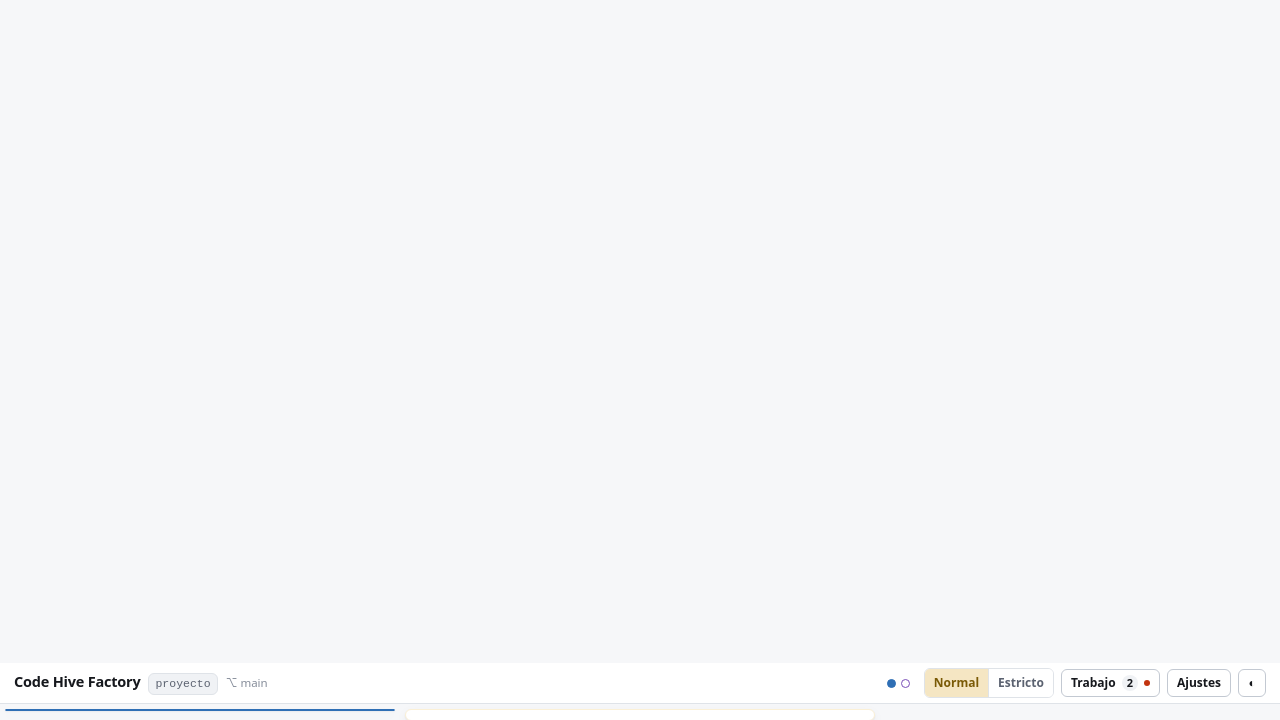
Test: detalle de una tarea › el recorrido de un hallazgo se sigue sin salir de la vista
(page scrolled)
Click the button with aria-label "Ver el trabajo del proyecto".
click(1110, 683)  # box x1=1061 y1=669 x2=1160 y2=697
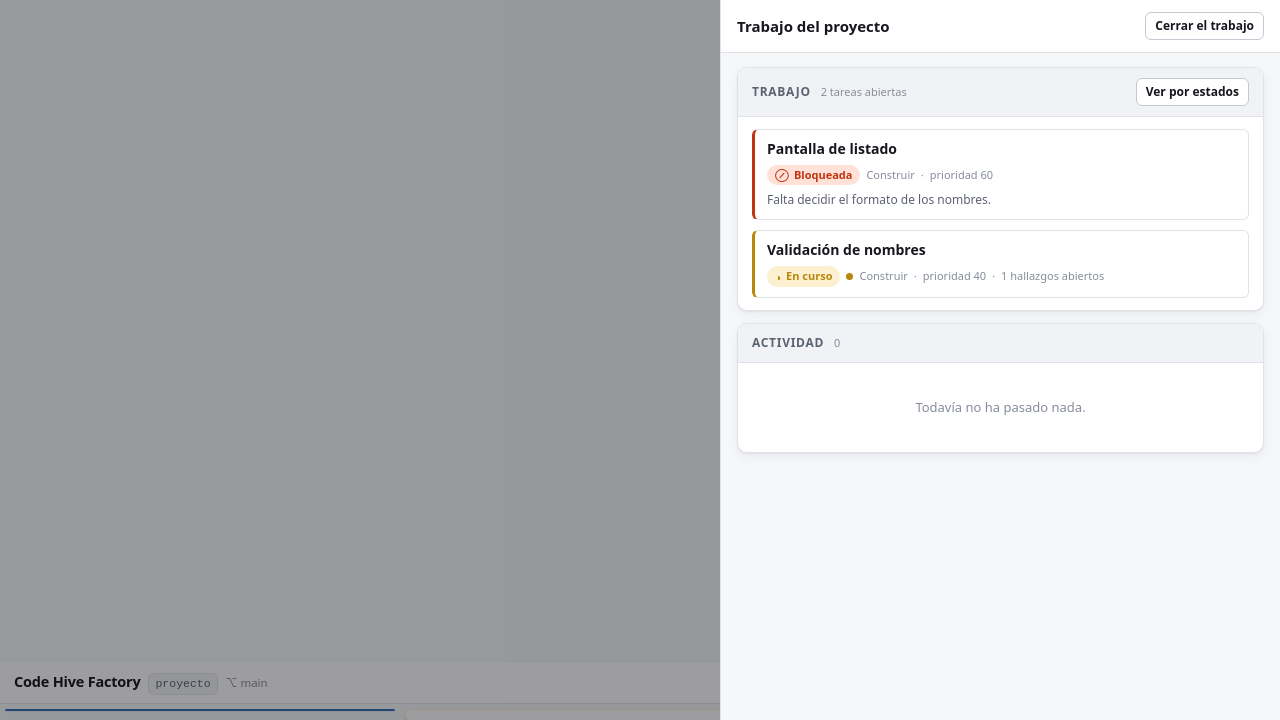
Check: the element with class "cajon" is shown, box x1=720 y1=0 x2=1279 y2=719
Click the button with class "tarea" that starts with "Validación de nombres".
click(846, 250)  # box x1=752 y1=230 x2=1249 y2=298
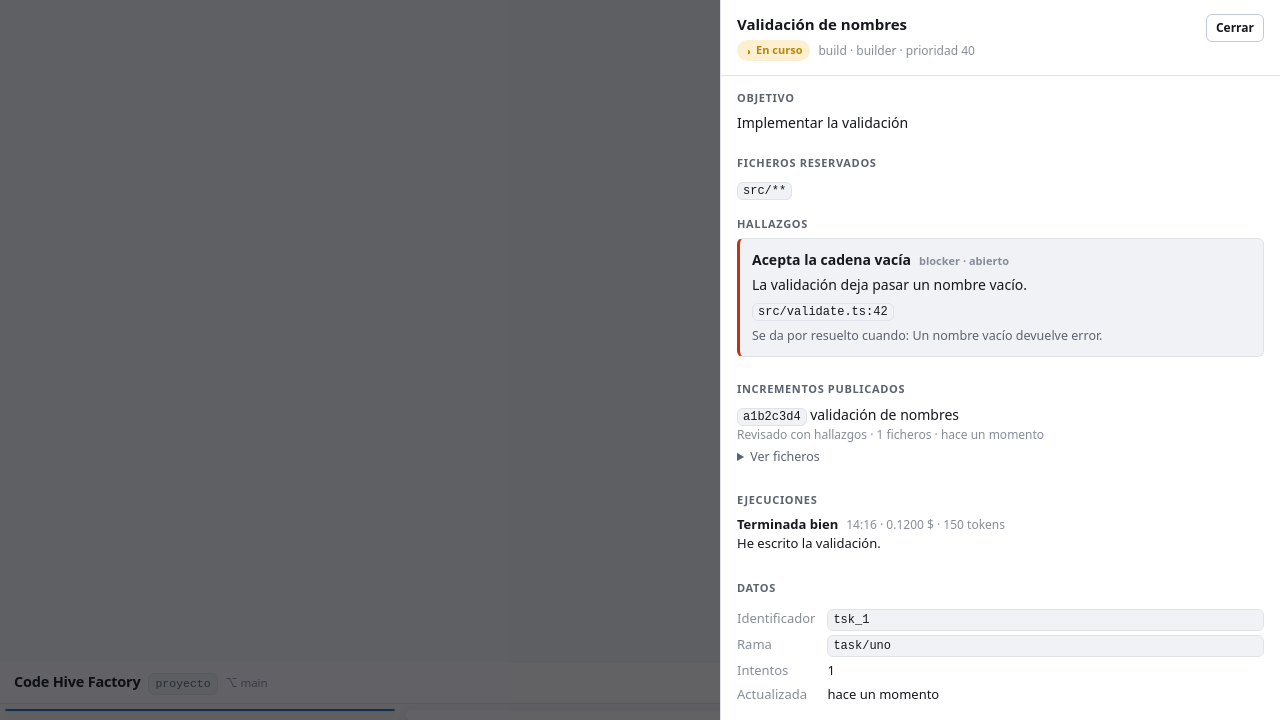
Check: the dialog shows "Acepta la cadena vacía", box x1=752 y1=250 x2=911 y2=269
Check: the dialog shows "Se da por resuelto cuando: Un nombre vacío devuelve error.", box x1=720 y1=0 x2=1279 y2=719
Check: the dialog shows "src/validate.ts:42", box x1=720 y1=0 x2=1279 y2=719
